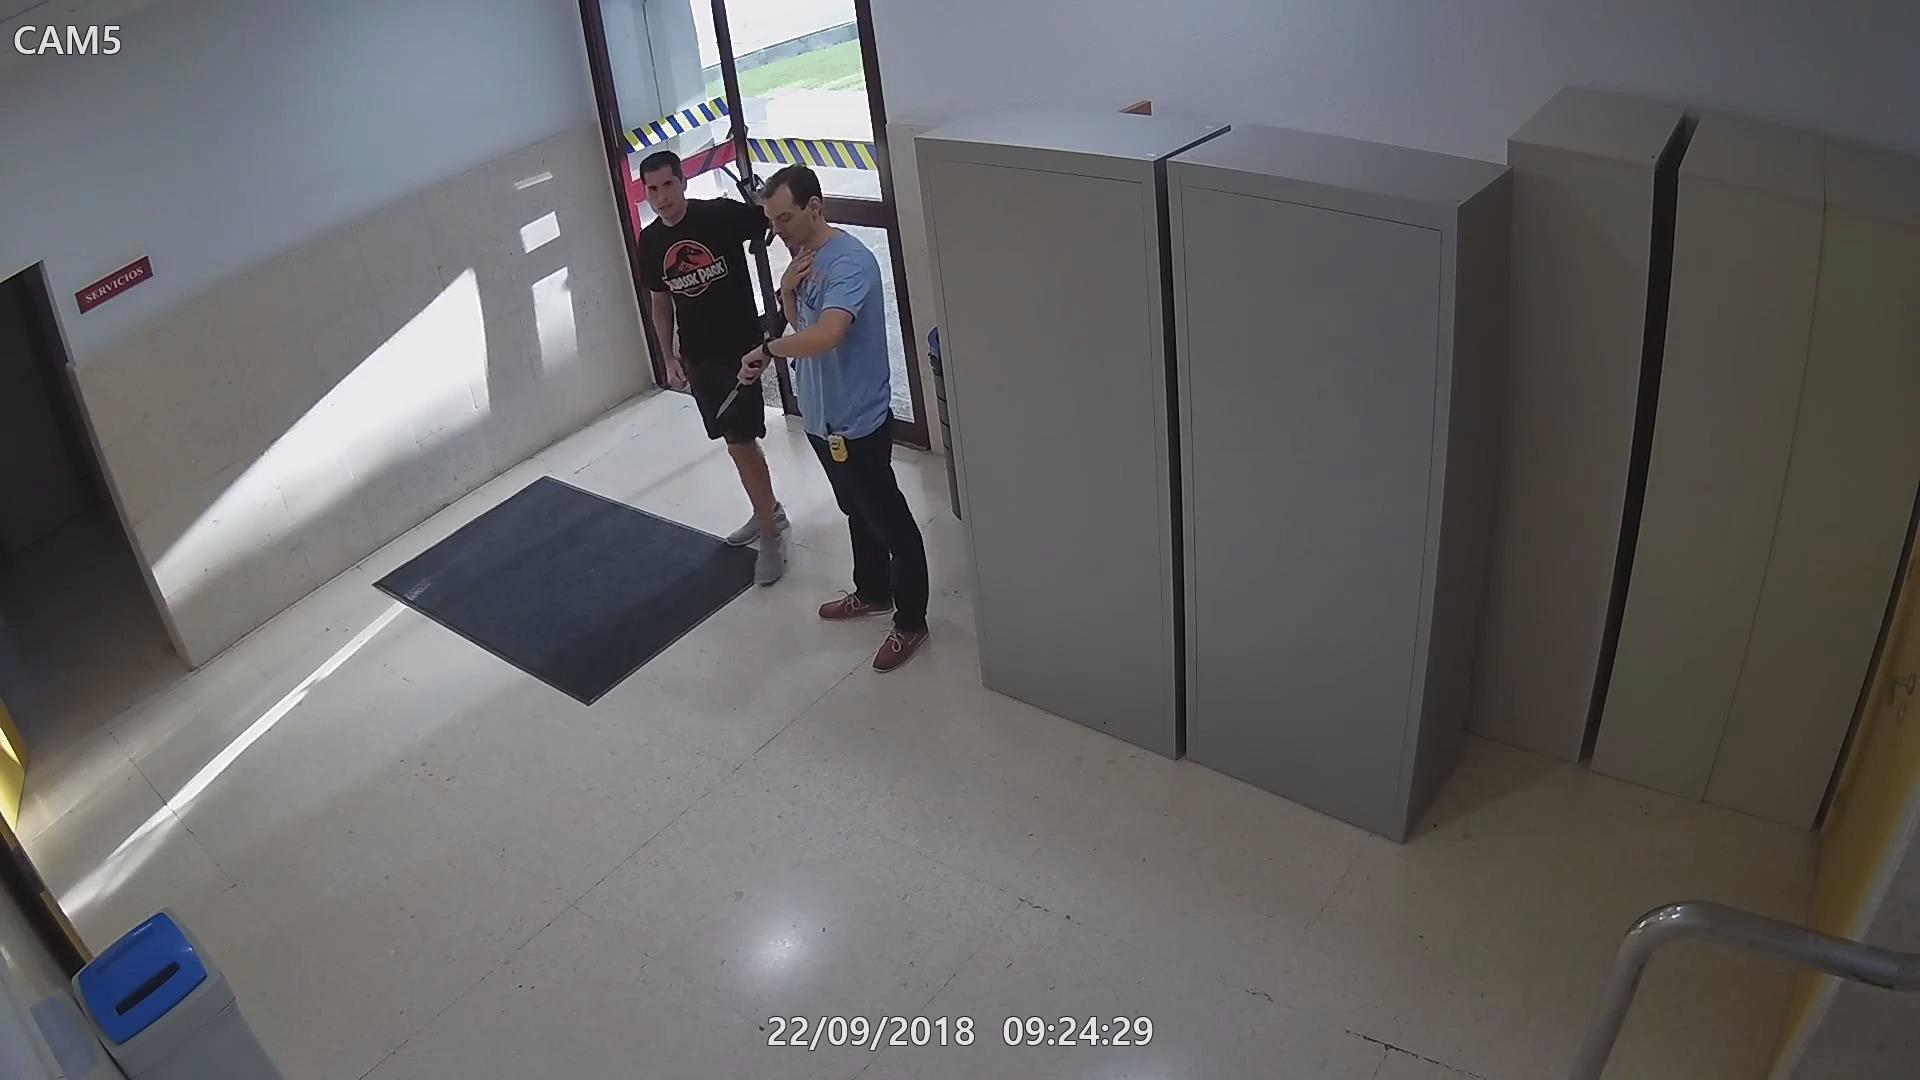Handgun: (767, 278, 791, 339)
